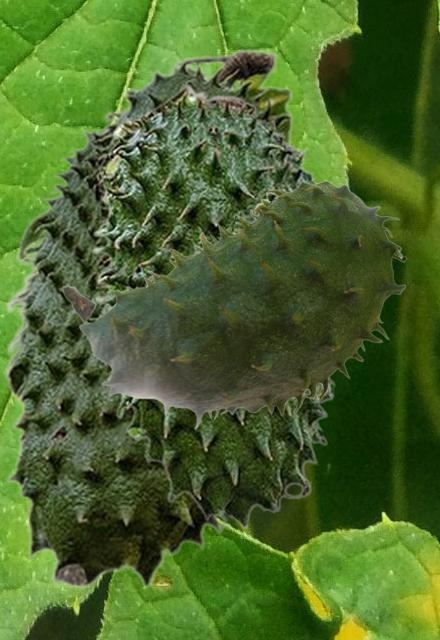guyabano: (2, 47, 301, 589), (91, 82, 338, 528), (61, 180, 406, 429)
